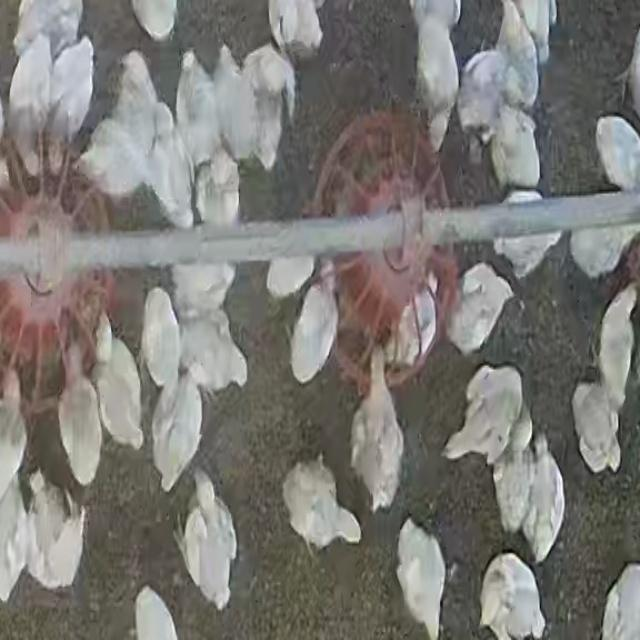chicken: (348, 336, 402, 507), (239, 40, 298, 173), (412, 2, 462, 147), (6, 31, 56, 173), (280, 464, 362, 549), (184, 472, 236, 605), (56, 345, 104, 489), (27, 476, 86, 592), (152, 372, 206, 496), (394, 519, 449, 640), (449, 366, 518, 462), (445, 263, 514, 357), (93, 332, 145, 455), (174, 313, 248, 399), (149, 102, 198, 229), (210, 45, 256, 178), (479, 551, 545, 640), (289, 272, 339, 386), (74, 123, 151, 197), (46, 34, 95, 148), (491, 397, 532, 532), (524, 426, 564, 564), (385, 275, 438, 378), (492, 0, 541, 109), (595, 288, 636, 416), (489, 109, 546, 198), (456, 49, 508, 144), (139, 285, 183, 397), (112, 47, 158, 153), (492, 218, 564, 282), (571, 379, 619, 474), (267, 0, 328, 62), (170, 260, 234, 318), (568, 221, 628, 282), (594, 115, 640, 190), (1, 472, 28, 592), (264, 255, 318, 301), (134, 588, 183, 636)
